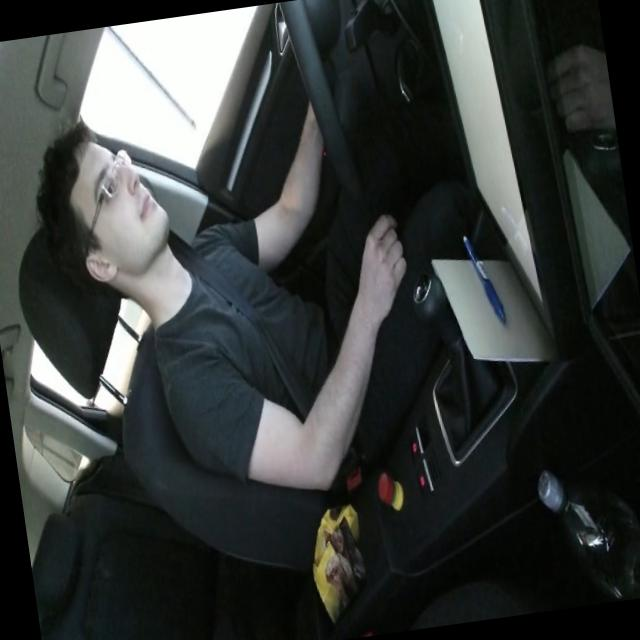pen: (462, 228, 508, 328)
